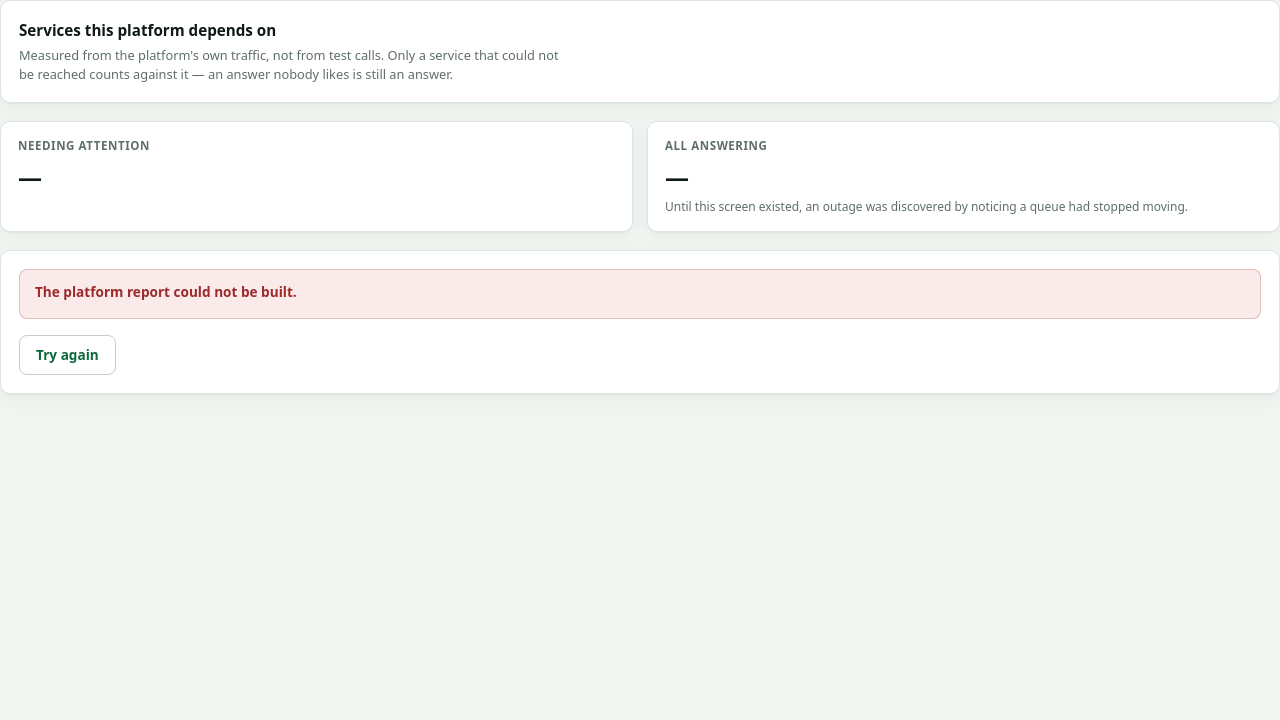
the sentence this screen must never invent › offers the read again
Click the button "Try again" at (67, 355), box x1=19 y1=335 x2=116 y2=375
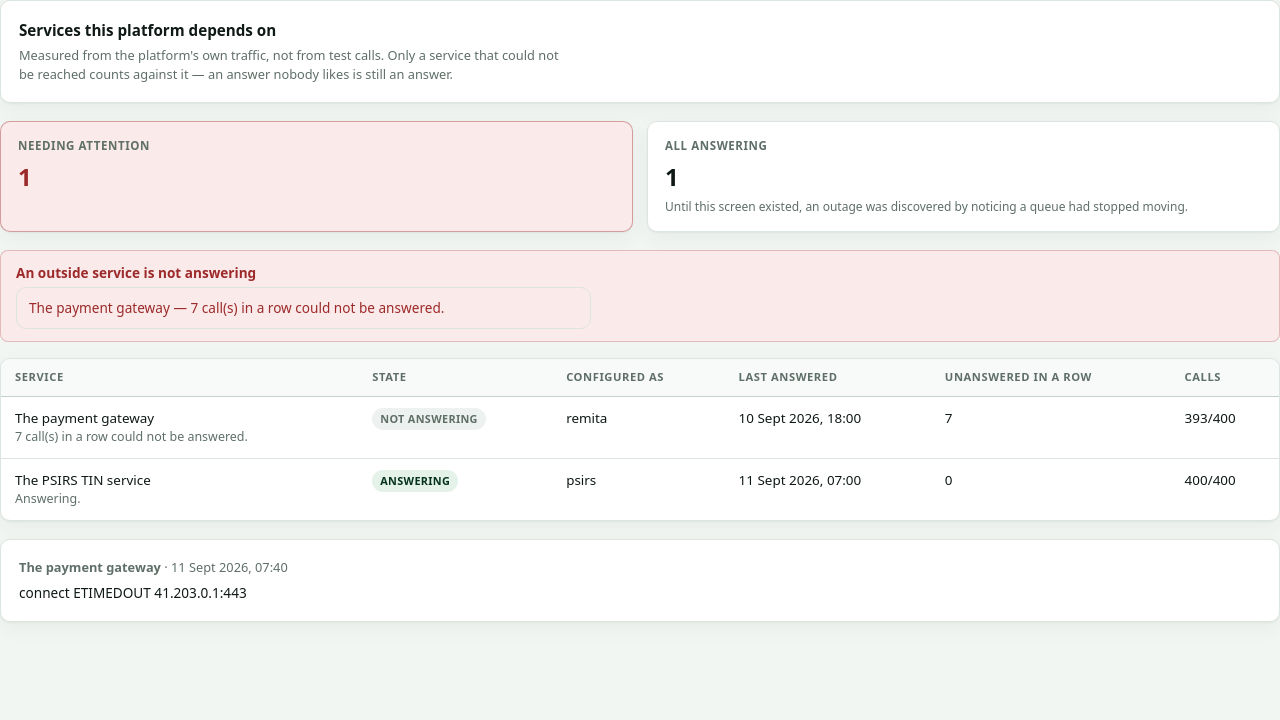
Expected: the text "An outside service is not answering" is shown, x1=16 y1=263 x2=256 y2=282
Expected: the text "The platform report could not be built." is gone
